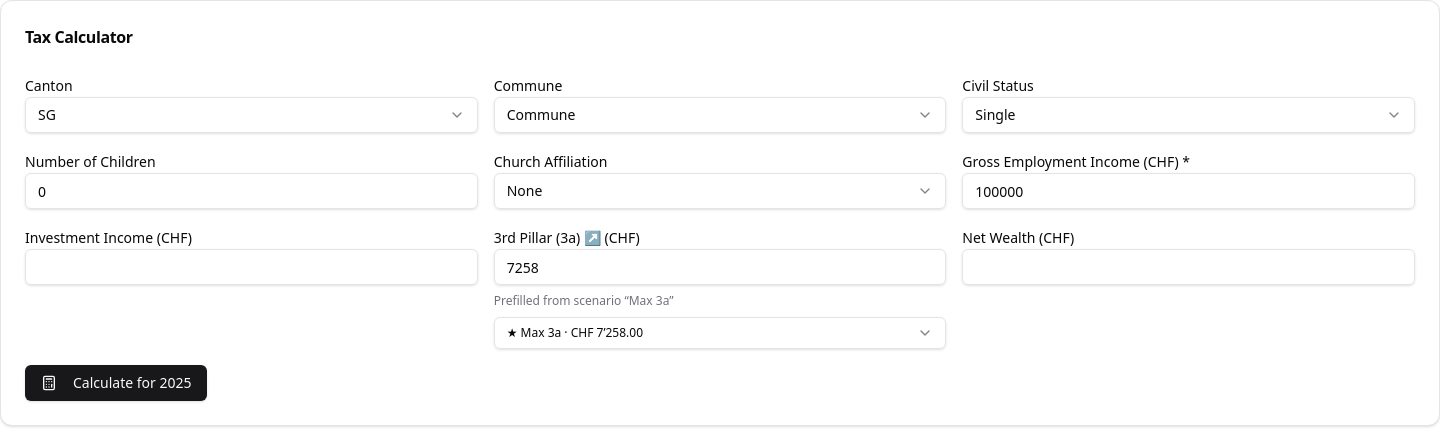
it: CalculatorCard › sets the pillar 3a field via the scenario picker
The image size is (1440, 448).
Click the dropdown named "Apply a 3a scenario …" at coordinates (541, 332), box [494,317,946,349]
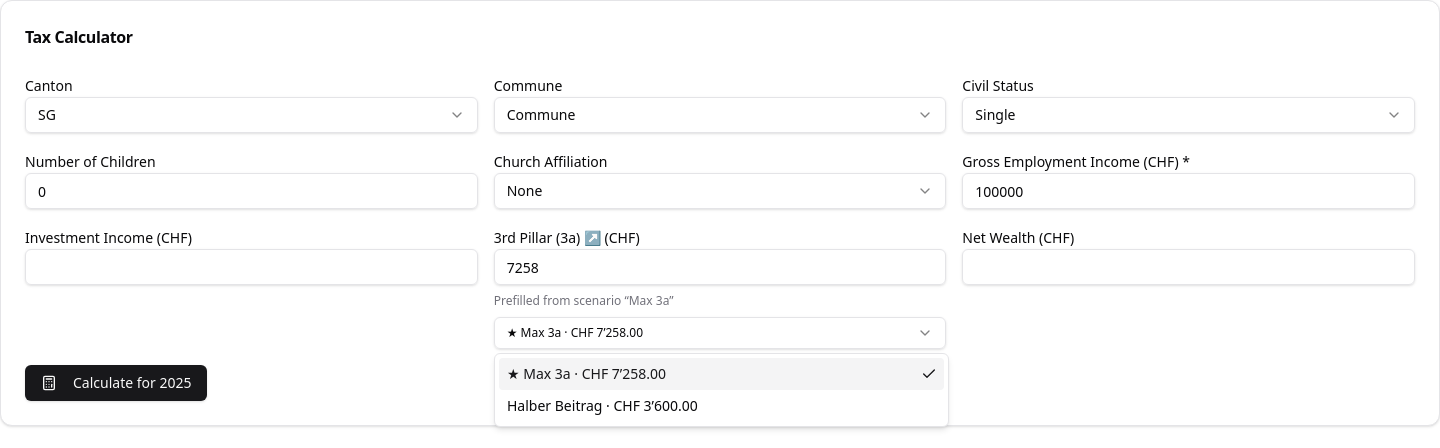
Click the option "Halber Beitrag · CHF 3’600.00" at coordinates (602, 406), box [507,396,698,415]
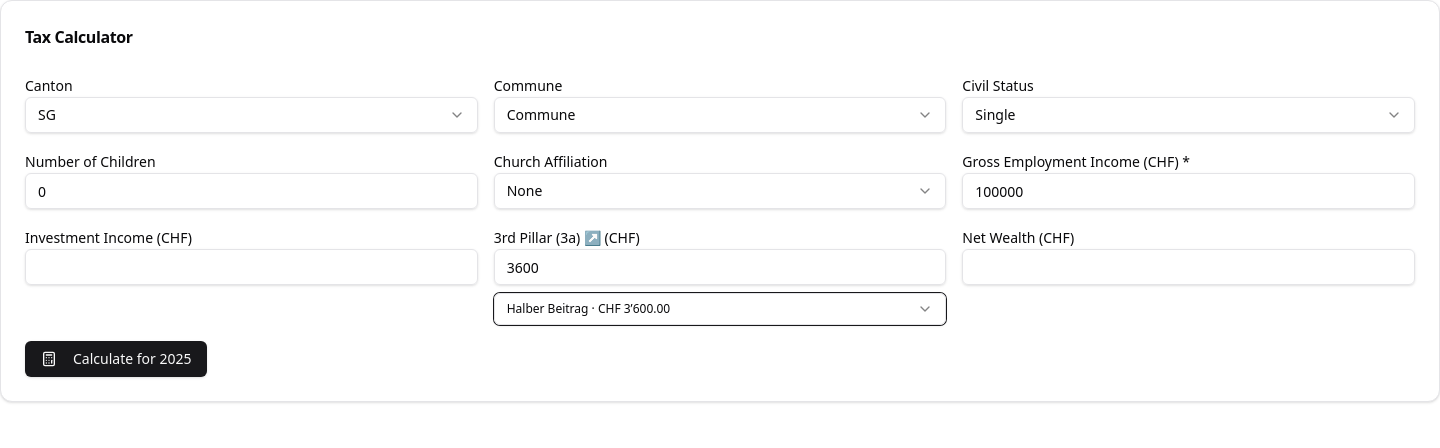
Result: the number field showing "3600" below "3rd Pillar (3a)" is shown at [494,249,946,285]
